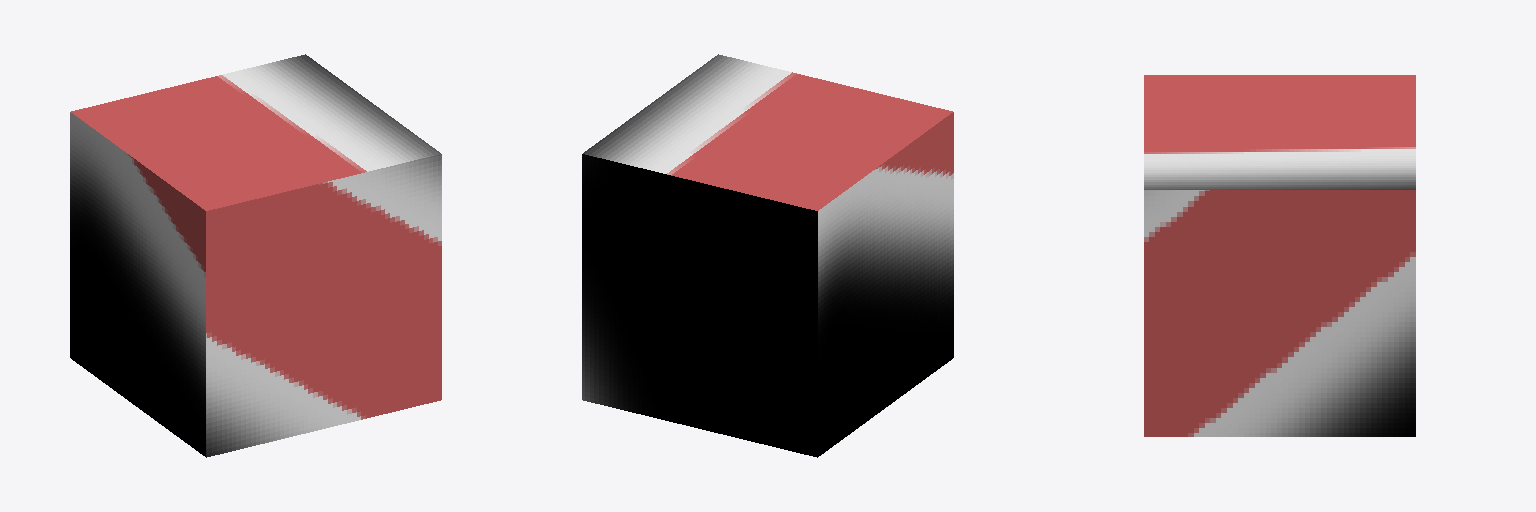
The picture shows the model from 3 angles: view 1: azimuth 30°, elevation 25°; view 2: azimuth 150°, elevation 25°; view 3: azimuth 270°, elevation 25°; orthographic projection.
Parts seen in each view (by area): view 1: 左手; view 2: 左手; view 3: 左手.
Boxes of the visible parts, x1,y1,x2,y2 form: 左手: [70, 54, 441, 457]; 左手: [582, 54, 953, 457]; 左手: [1144, 75, 1415, 436].
Bounding box in the file's own units: 3 × 3 × 3.
1 materials, 1 textured.